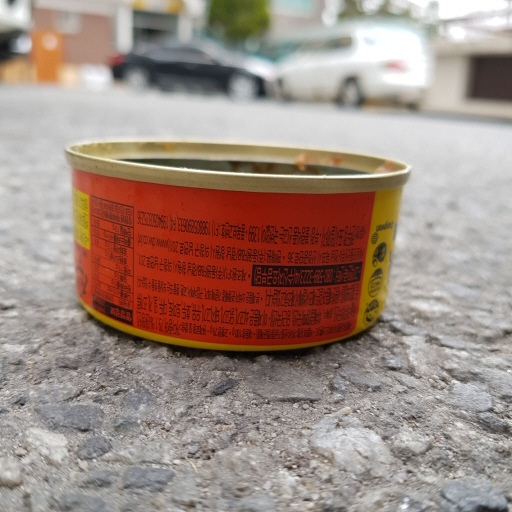Metal_1: (60, 136, 413, 350)
